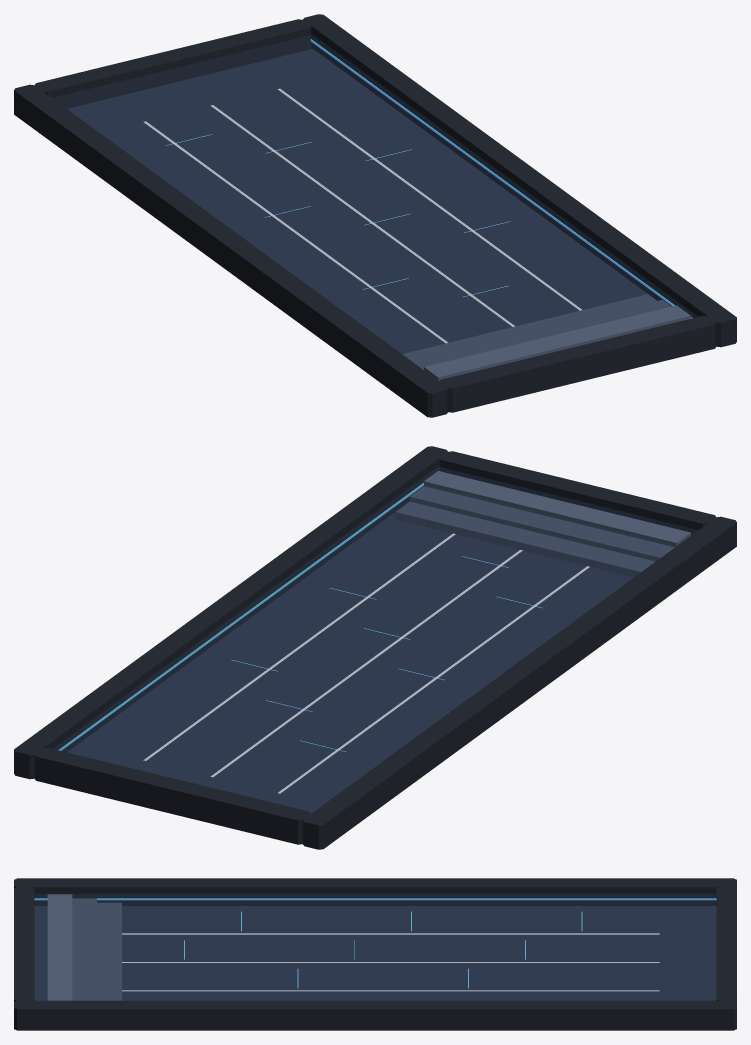
File: res_indoor_pool_basin.glb
3 renders of one model, top to bottom at view 1: azimuth 30°, elevation 25°; view 2: azimuth 150°, elevation 25°; view 3: azimuth 270°, elevation 25°, orthographic. The views are drawn at different scales.
Parts seen in each view (by area): view 1: water_surface, pool_floor, end_coping, entry_step, lane_marking, blue_underwater_strip; view 2: water_surface, pool_floor, end_coping, entry_step, lane_marking, blue_underwater_strip; view 3: water_surface, pool_floor, end_coping, entry_step, lane_marking, blue_underwater_strip.
Boxes of the visible parts, left/top/right/bottom form: water_surface: left=53, top=35, right=697, bottom=381; pool_floor: left=67, top=49, right=647, bottom=353; end_coping: left=14, top=14, right=736, bottom=417; entry_step: left=402, top=294, right=690, bottom=381; lane_marking: left=144, top=88, right=581, bottom=343; blue_underwater_strip: left=166, top=39, right=691, bottom=318; water_surface: left=53, top=467, right=697, bottom=813; pool_floor: left=67, top=512, right=632, bottom=813; end_coping: left=14, top=446, right=736, bottom=849; entry_step: left=395, top=471, right=690, bottom=577; lane_marking: left=143, top=533, right=589, bottom=793; blue_underwater_strip: left=59, top=483, right=542, bottom=751; water_surface: left=35, top=894, right=715, bottom=1000; pool_floor: left=34, top=906, right=716, bottom=1000; end_coping: left=14, top=878, right=736, bottom=1030; entry_step: left=47, top=894, right=121, bottom=1000; lane_marking: left=122, top=933, right=659, bottom=991; blue_underwater_strip: left=34, top=898, right=716, bottom=988.
Bounding box in the file's own units: 6 × 0.45 × 14.
